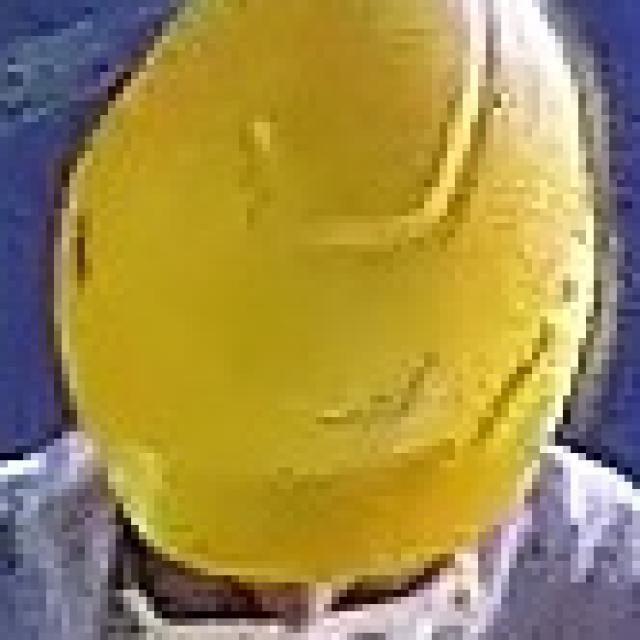yellow helmet: (53, 1, 601, 571)
